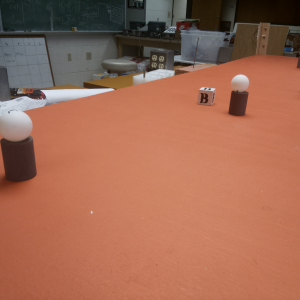blockB: (196, 84, 218, 107)
corner: (256, 22, 271, 57)
obstacle: (1, 109, 39, 184), (229, 74, 250, 117)
